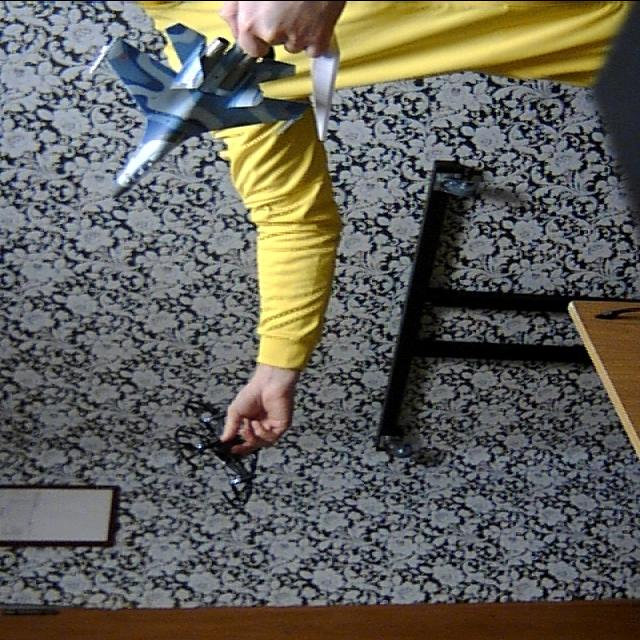drone: (153, 378, 269, 530)
